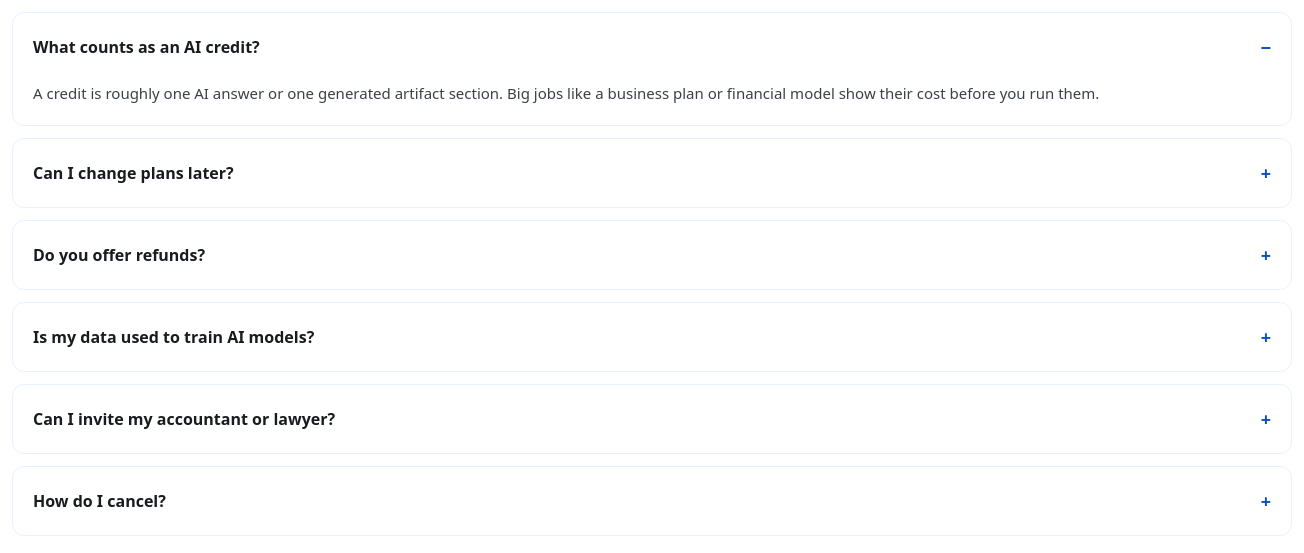
it: FaqAccordion › opens one item at a time
Step 1. Click the button "Can I change plans later? +" → [133, 173], box [13,139,1291,207]
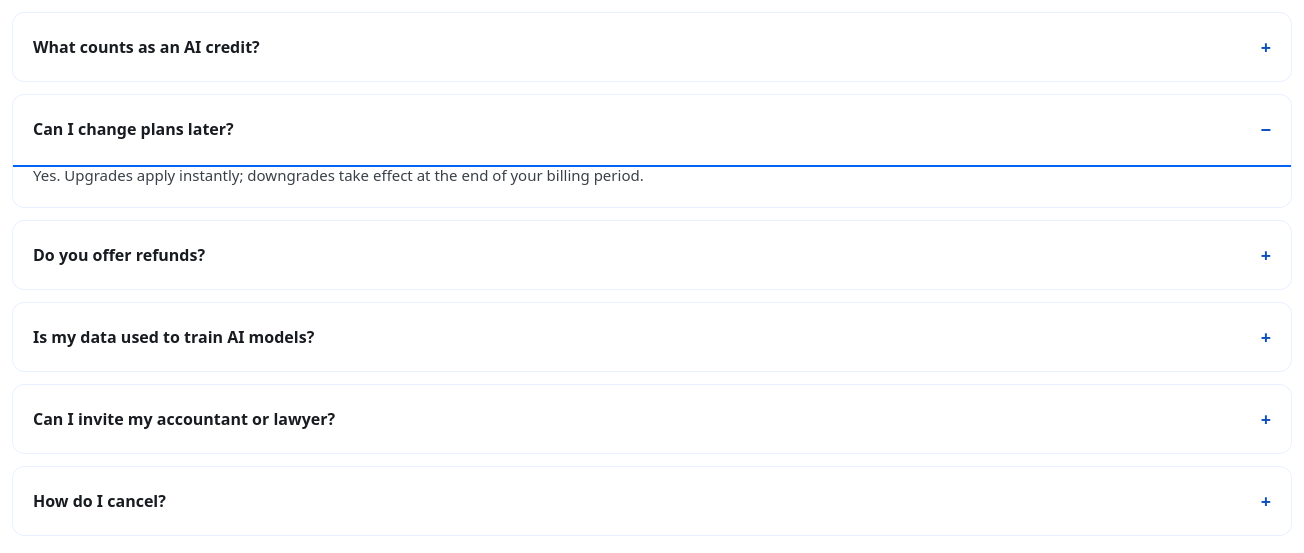
Expected: the button "Can I change plans later? −" is expanded, [13,95,1291,163]
